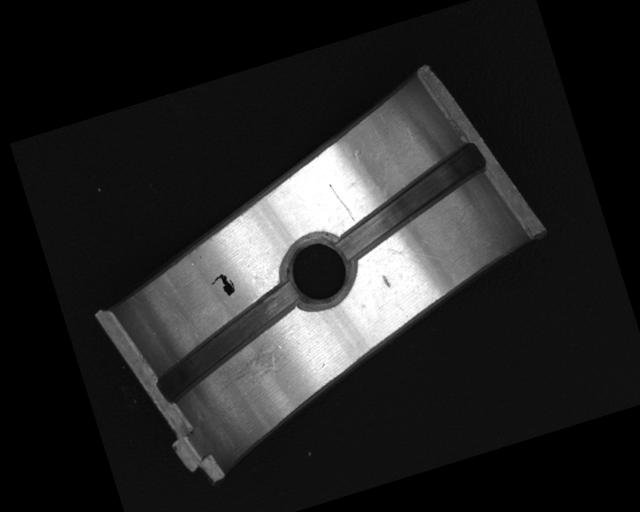blot: (208, 270, 237, 301)
bruise: (379, 272, 392, 290)
gap: (140, 280, 316, 404), (321, 142, 499, 263)
hole: (272, 225, 363, 314)
nick: (328, 178, 356, 225)
scratch: (198, 321, 305, 394)
